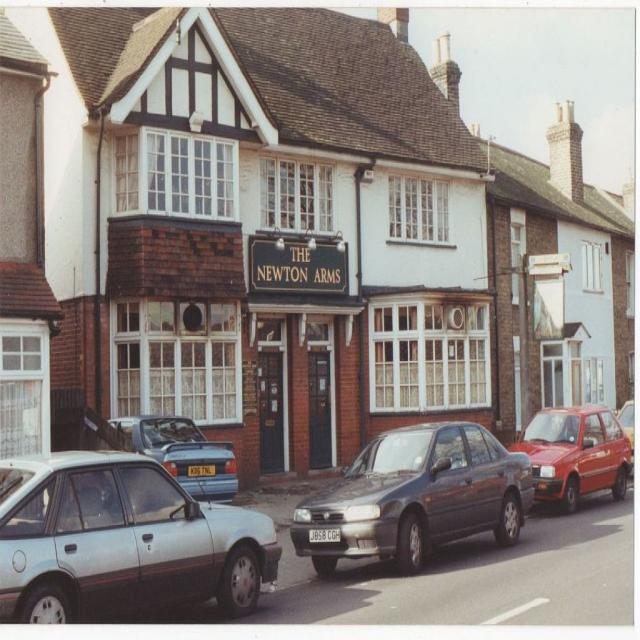car: (289, 420, 534, 576)
